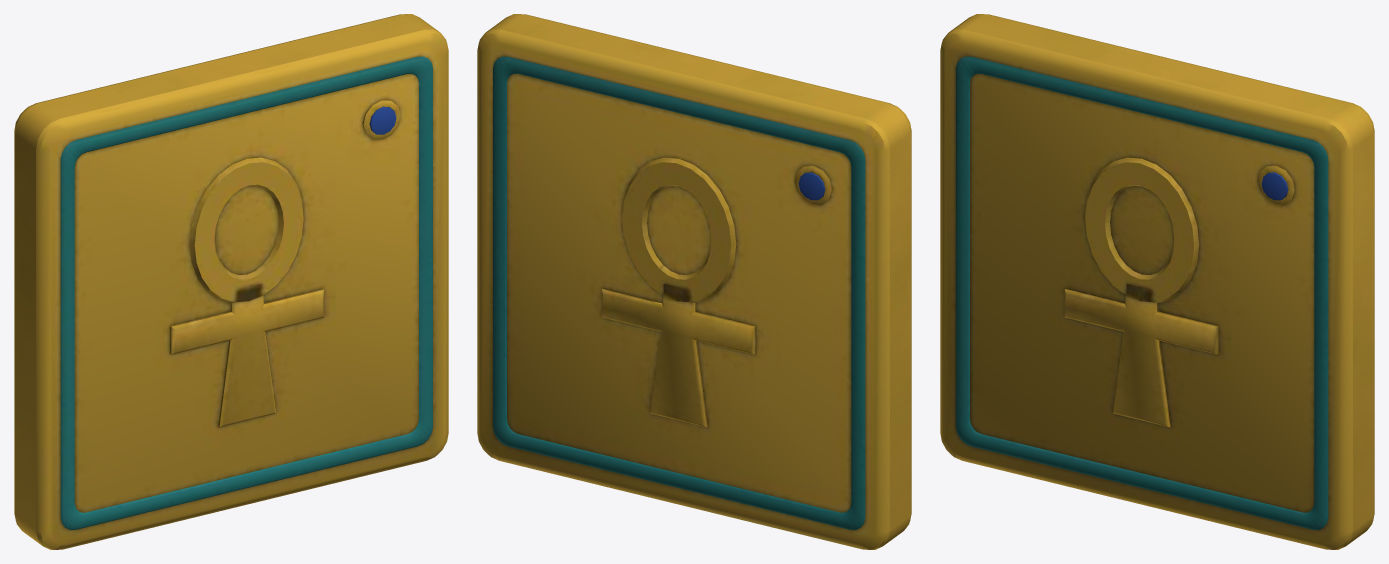
3 views of the same model, side by side, from view 1: azimuth 30°, elevation 25°; view 2: azimuth 150°, elevation 25°; view 3: azimuth 330°, elevation 25° (orthographic).
Visible parts, largest first — view 1: Polished_gold_face, Teal_glazed_faience, Brushed_gold_edges, Lapis_blue_cabochon; view 2: Polished_gold_face, Teal_glazed_faience, Brushed_gold_edges, Lapis_blue_cabochon; view 3: Polished_gold_face, Teal_glazed_faience, Brushed_gold_edges, Lapis_blue_cabochon.
Boxes of the visible parts, x1,y1,x2,y2 form: Polished_gold_face: (14,14,448,549); Teal_glazed_faience: (60,56,432,529); Brushed_gold_edges: (15,14,439,545); Lapis_blue_cabochon: (369,106,396,134); Polished_gold_face: (477,14,911,549); Teal_glazed_faience: (493,56,865,529); Brushed_gold_edges: (486,14,910,545); Lapis_blue_cabochon: (798,172,825,200); Polished_gold_face: (940,14,1374,549); Teal_glazed_faience: (956,56,1328,529); Brushed_gold_edges: (949,14,1373,545); Lapis_blue_cabochon: (1261,172,1288,200).
Size of the model in its own units: 0.9 by 0.9 by 0.138.
Materials: 4 (4 with a texture image).
